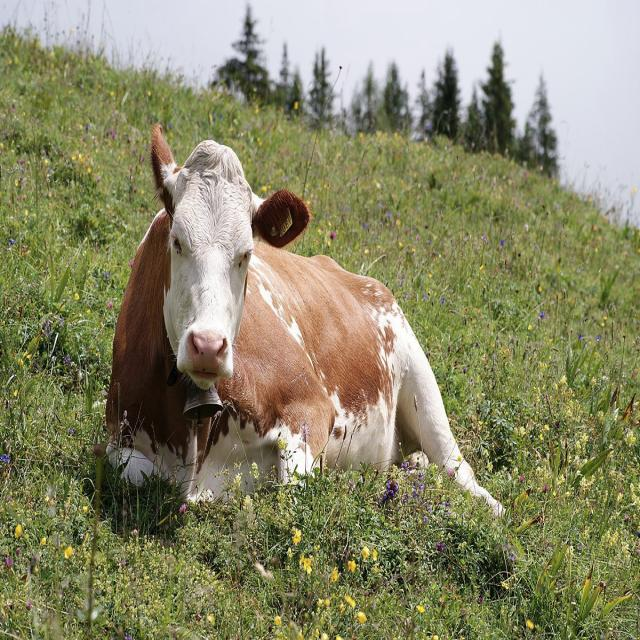cow: (107, 126, 500, 514)
